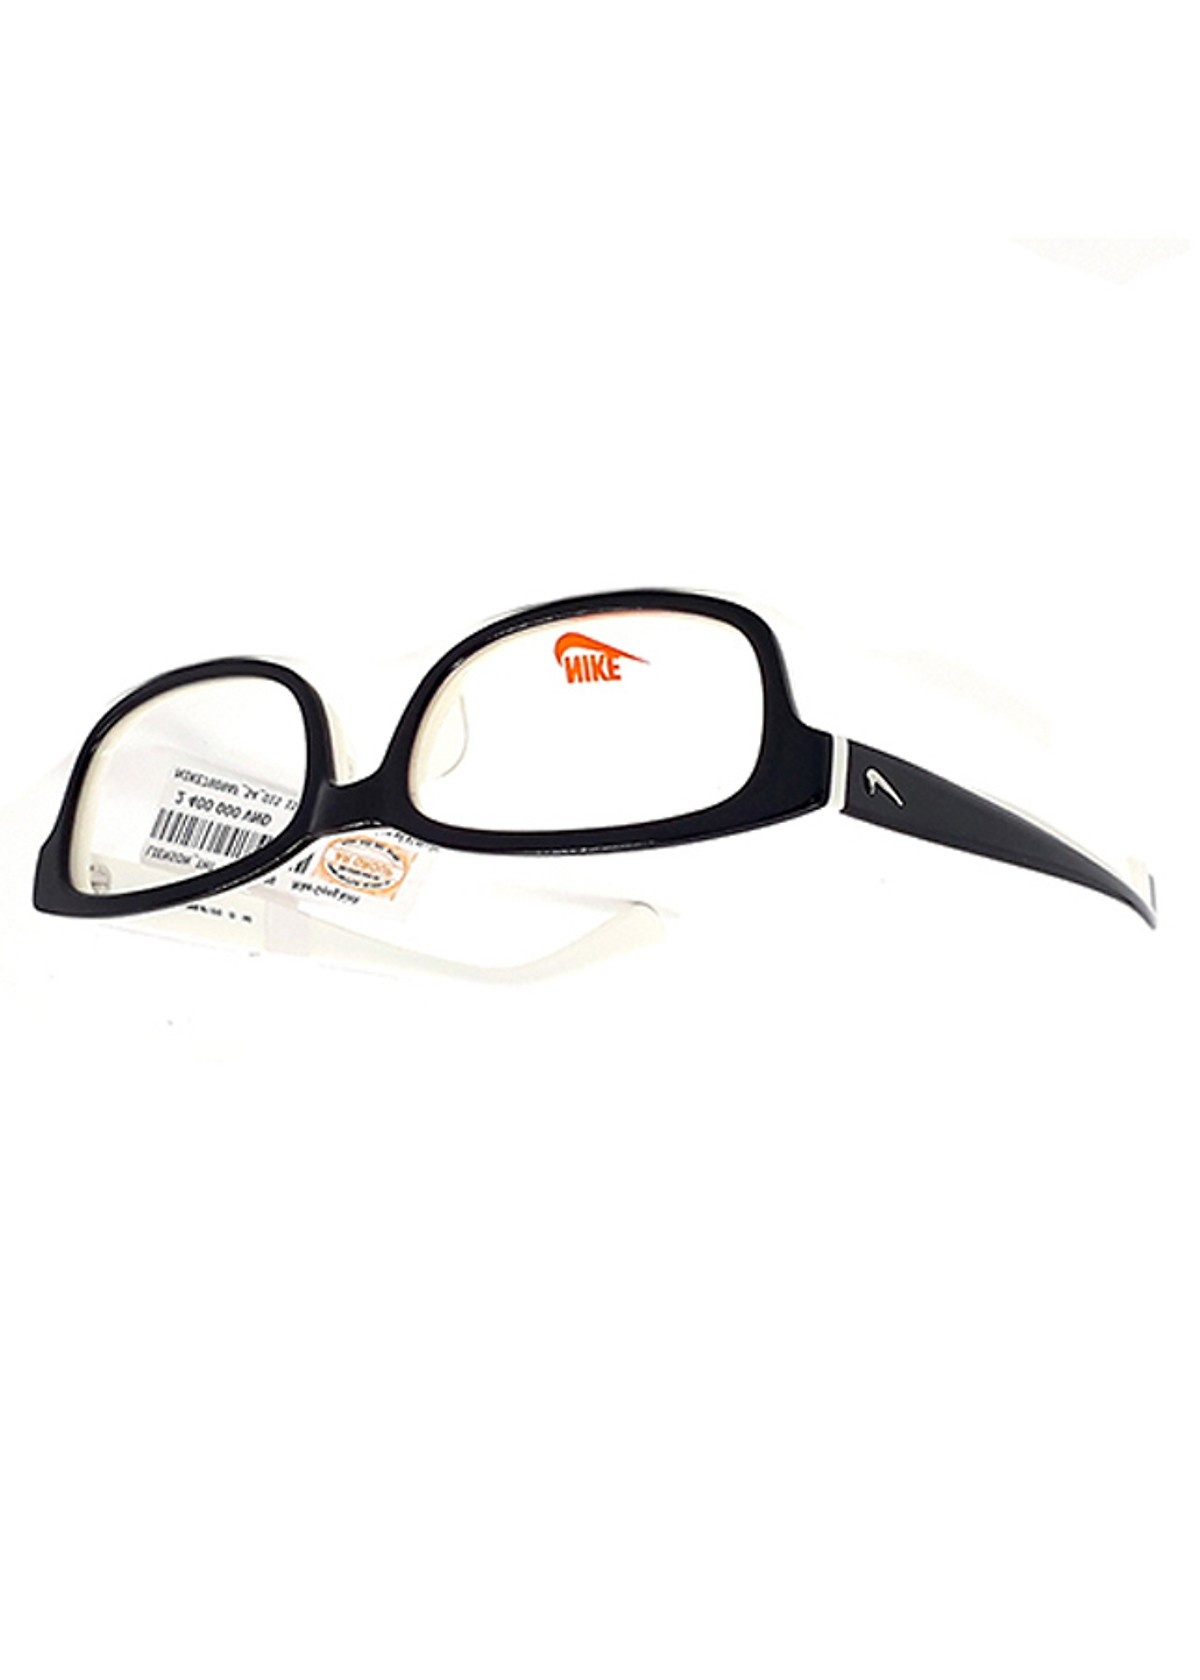Nike: (435, 560, 742, 769)
